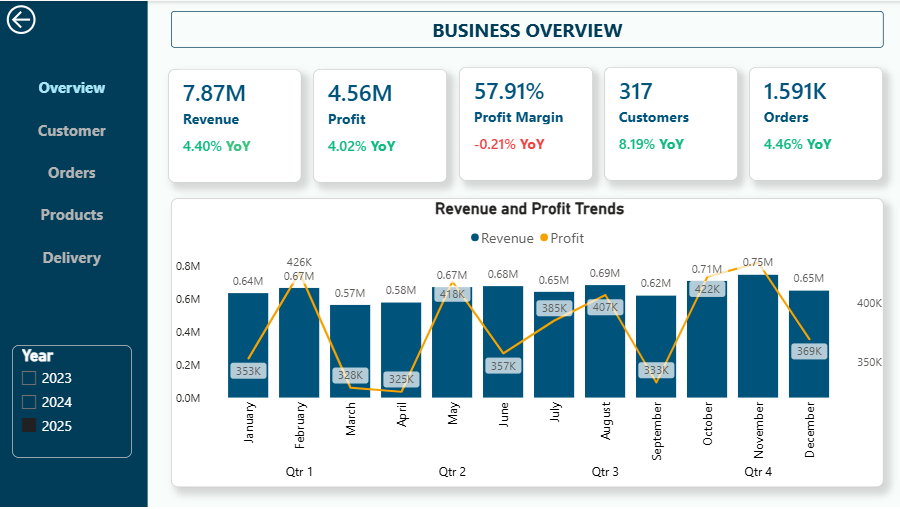

The dashboard page shown, as its layout file describes it:
{"tool":"powerbi","page":{"name":"Overview","canvas":[1280,720],"ordinal":0},"visuals":[{"type":"actionButton","box":[18.5,157.1,169.7,50.4],"z":0},{"type":"actionButton","box":[18.5,218.4,169.7,48.7],"z":1000},{"type":"actionButton","box":[18.5,337.6,169.7,50.4],"z":2000},{"type":"actionButton","box":[18.5,278,169.7,48.7],"z":3000},{"type":"actionButton","box":[18.5,95.7,169.7,50.4],"z":4000},{"type":"textbox","box":[243.8,14.2,1010,52],"z":5000},{"type":"cardVisual","title":"Revenue","fields":{"Data":["Sum(orders.amount)"]},"box":[240.2,95.7,189,161.3],"z":6000},{"type":"cardVisual","fields":{"Data":["Count(orders.customer_id)"]},"box":[857.3,94.1,189.8,161],"z":7000},{"type":"cardVisual","fields":{"Data":["orders.profit"]},"box":[445.4,95.7,189.8,161],"z":8000},{"type":"cardVisual","fields":{"Data":["measures_table.profit_margin"]},"box":[651.4,94.1,189.8,161],"z":9000},{"type":"cardVisual","fields":{"Data":["Count(orders.order_id)"]},"box":[1063.3,94.1,189.8,161],"z":10000},{"type":"slicer","fields":{"Values":["Calendar.Date.Variation.Date Hierarchy.Year"]},"box":[18.5,487.1,169.7,159.6],"z":11000},{"type":"lineStackedColumnComboChart","title":"Revenue and Profit Trends","fields":{"Category":["Calendar.Date.Variation.Date Hierarchy.Quarter","Calendar.Date.Variation.Date Hierarchy.Month"],"Y":["measures_table.revenue"],"Y2":["measures_table.profit"]},"box":[243.6,278.8,1009.6,409.9],"z":12000},{"type":"actionButton","box":[0,0,63.4,52.8],"z":13000}]}

Visuals, with their boxes in screenshot pixels (x1, y1, x2, y2), scaled from the page's 1280x720 canvas onto the 900x509 screenshot:
actionButton: <region>13, 111, 132, 147</region>
actionButton: <region>13, 154, 132, 189</region>
actionButton: <region>13, 239, 132, 274</region>
actionButton: <region>13, 197, 132, 231</region>
actionButton: <region>13, 68, 132, 103</region>
textbox: <region>171, 10, 882, 47</region>
"Revenue" cardVisual: <region>169, 68, 302, 182</region>
cardVisual - Count(orders.customer_id): <region>603, 67, 736, 180</region>
cardVisual - orders.profit: <region>313, 68, 447, 181</region>
cardVisual - measures_table.profit_margin: <region>458, 67, 591, 180</region>
cardVisual - Count(orders.order_id): <region>748, 67, 881, 180</region>
slicer - Calendar.Date.Variation.Date Hierarchy.Year: <region>13, 344, 132, 457</region>
"Revenue and Profit Trends" lineStackedColumnComboChart: <region>171, 197, 881, 487</region>
actionButton: <region>0, 0, 45, 37</region>
